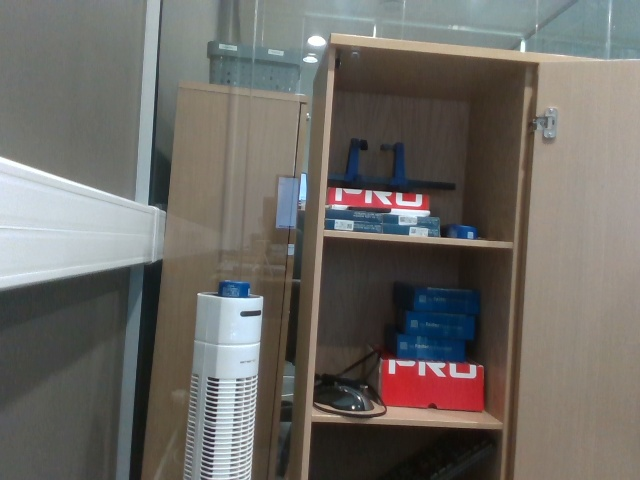alfa: (210, 274, 256, 304), (439, 217, 481, 245)
